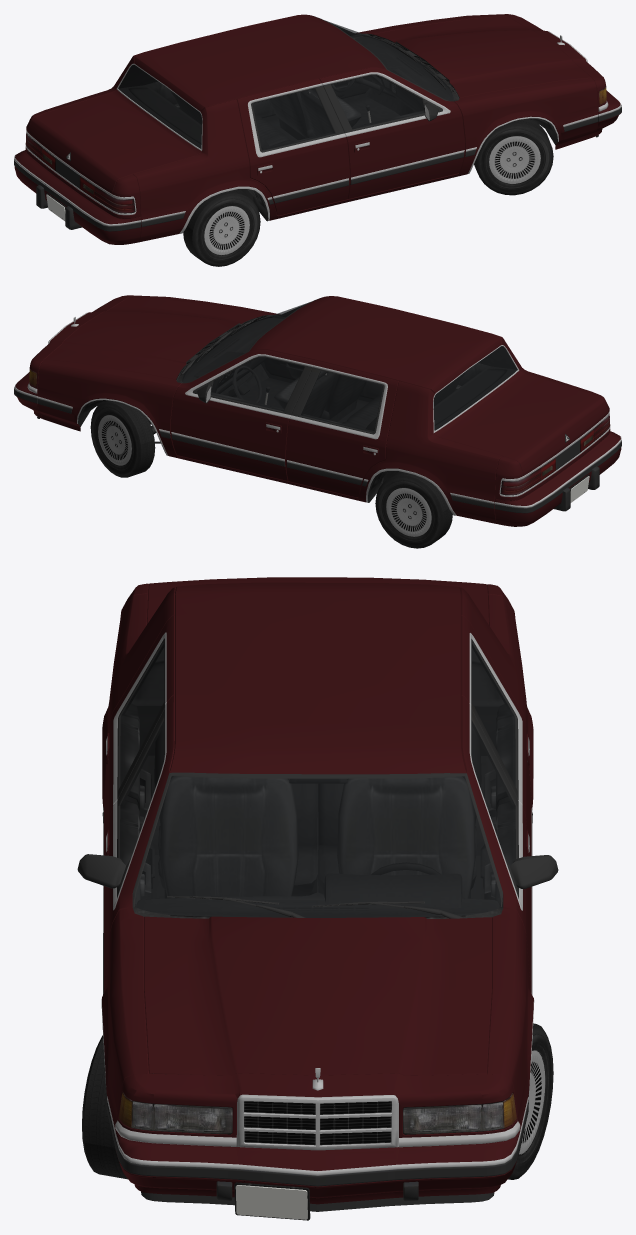
Rendered from SedanClassic.obj.
3 views of the same model, one above another, from view 1: azimuth 30°, elevation 25°; view 2: azimuth 150°, elevation 25°; view 3: azimuth 270°, elevation 25° (orthographic). The views are drawn at different scales.
Visible parts, largest first — view 1: Body_Bodycolor_0, Hood_Bodycolor_0, Trunk_door_Bodycolor_0, Door_FR_Bodycolor_0, Door_RR_Bodycolor_0, Wheel_FR_RIMSTOCK_04_0, Interior_GEN4DR_INTERIOR_0, Wheel_RR_RIMSTOCK_04_0, bottom_UCB_BOTTOM_0, Door_Glass_RR_UCB_GLASS_0, Seats_GEN4DR_INTERIOR_0, Door_Glass_FR_UCB_GLASS_0 (+11 smaller); view 2: Body_Bodycolor_0, Hood_Bodycolor_0, Trunk_door_Bodycolor_0, Door_FL_Bodycolor_0, Door_RL_Bodycolor_0, Wheel_RL_RIMSTOCK_04_0, Interior_GEN4DR_INTERIOR_0, Wheel_FL_RIMSTOCK_04_0, bottom_UCB_BOTTOM_0, Door_Glass_RL_UCB_GLASS_0, Seats_GEN4DR_INTERIOR_0, Door_Glass_FL_UCB_GLASS_0 (+12 smaller); view 3: Body_Bodycolor_0, Hood_Bodycolor_0, Windshield_UCB_GLASS_0, Seats_GEN4DR_INTERIOR_0, bottom_UCB_BOTTOM_0, Bumper_Front_Bodycolor_0, Bumper_Front_inner_UCB_BOTTOM_0, Dashboard_GEN4DR_INTERIOR_0, Headlight_glass_Riverside88_Headlights_0, Interior_GEN4DR_INTERIOR_0, Wheel_FR_RIMSTOCK_04_0, Wheel_FL_RIMSTOCK_04_0 (+18 smaller).
Part boxes in pixels (box(x1,y1,x2,y2)): Body_Bodycolor_0: box(25, 14, 606, 242); Hood_Bodycolor_0: box(373, 16, 591, 97); Trunk_door_Bodycolor_0: box(28, 89, 201, 194); Door_FR_Bodycolor_0: box(319, 67, 465, 198); Door_RR_Bodycolor_0: box(236, 78, 349, 215); Wheel_FR_RIMSTOCK_04_0: box(474, 118, 553, 195); Interior_GEN4DR_INTERIOR_0: box(118, 24, 448, 148); Wheel_RR_RIMSTOCK_04_0: box(183, 189, 260, 266); bottom_UCB_BOTTOM_0: box(25, 16, 608, 221); Door_Glass_RR_UCB_GLASS_0: box(253, 88, 334, 150); Seats_GEN4DR_INTERIOR_0: box(171, 89, 361, 149); Door_Glass_FR_UCB_GLASS_0: box(331, 75, 424, 129); Body_Bodycolor_0: box(29, 295, 610, 523); Hood_Bodycolor_0: box(44, 297, 261, 379); Trunk_door_Bodycolor_0: box(434, 371, 607, 475); Door_FL_Bodycolor_0: box(170, 349, 316, 480); Door_RL_Bodycolor_0: box(286, 360, 398, 497); Wheel_RL_RIMSTOCK_04_0: box(375, 471, 452, 548); Interior_GEN4DR_INTERIOR_0: box(193, 305, 517, 430); Wheel_FL_RIMSTOCK_04_0: box(90, 400, 155, 477); bottom_UCB_BOTTOM_0: box(27, 297, 610, 502); Door_Glass_RL_UCB_GLASS_0: box(301, 371, 382, 432); Seats_GEN4DR_INTERIOR_0: box(274, 370, 464, 430); Door_Glass_FL_UCB_GLASS_0: box(211, 357, 304, 410); Body_Bodycolor_0: box(102, 582, 533, 1137); Hood_Bodycolor_0: box(144, 916, 491, 1075); Windshield_UCB_GLASS_0: box(135, 776, 500, 917); Seats_GEN4DR_INTERIOR_0: box(154, 706, 481, 898); bottom_UCB_BOTTOM_0: box(101, 759, 534, 1150); Bumper_Front_Bodycolor_0: box(115, 1130, 519, 1204); Bumper_Front_inner_UCB_BOTTOM_0: box(115, 1132, 520, 1220); Dashboard_GEN4DR_INTERIOR_0: box(136, 873, 499, 917); Headlight_glass_Riverside88_Headlights_0: box(131, 1101, 504, 1134); Interior_GEN4DR_INTERIOR_0: box(126, 648, 509, 899); Wheel_FR_RIMSTOCK_04_0: box(82, 1035, 127, 1179); Wheel_FL_RIMSTOCK_04_0: box(508, 1023, 553, 1179).
Size of the model in its own units: 4.91 by 1.33 by 1.91.
7 materials, 4 textured.
